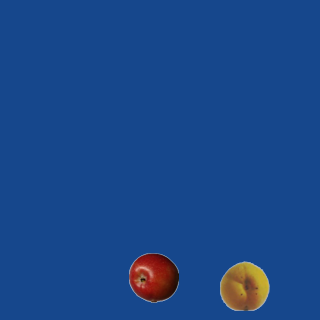Apple Braeburn: (128, 252, 178, 302)
Peach 2: (219, 260, 269, 310)
